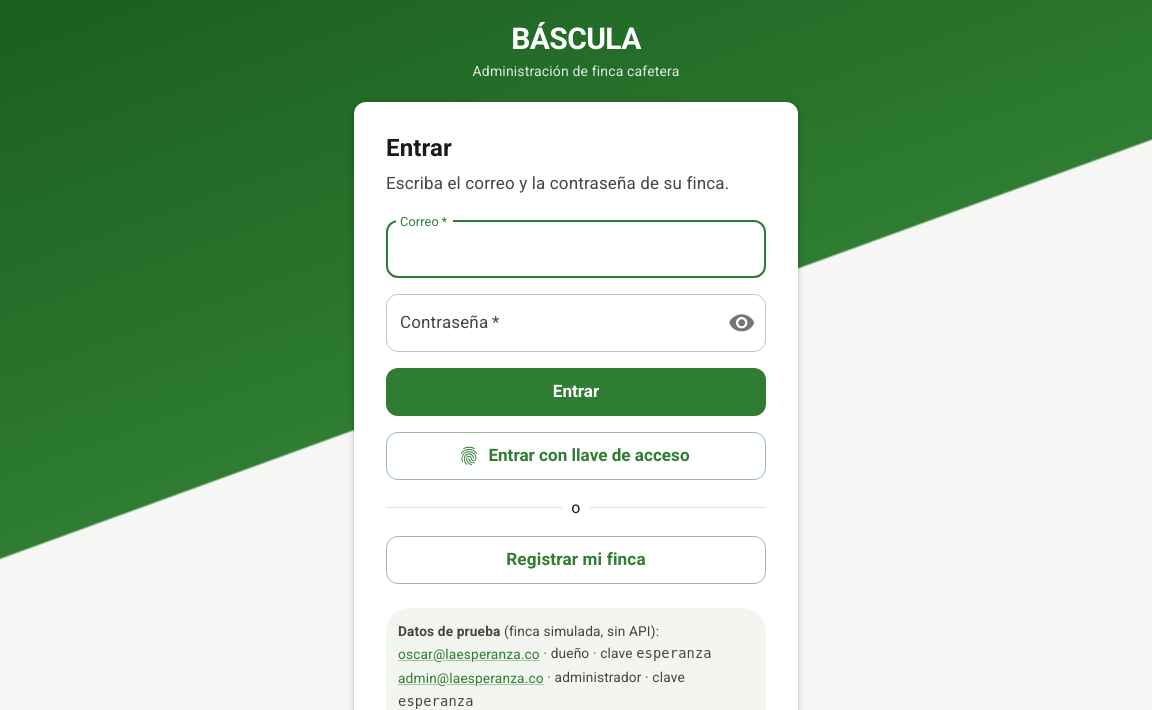
LoginPage — where it goes after a passkey › goes to the page the person was trying to open
This screenshot has width=1152, height=710.
Step 1. Click the button "Entrar con llave de acceso" → (576, 456), box [386,432,766,480]
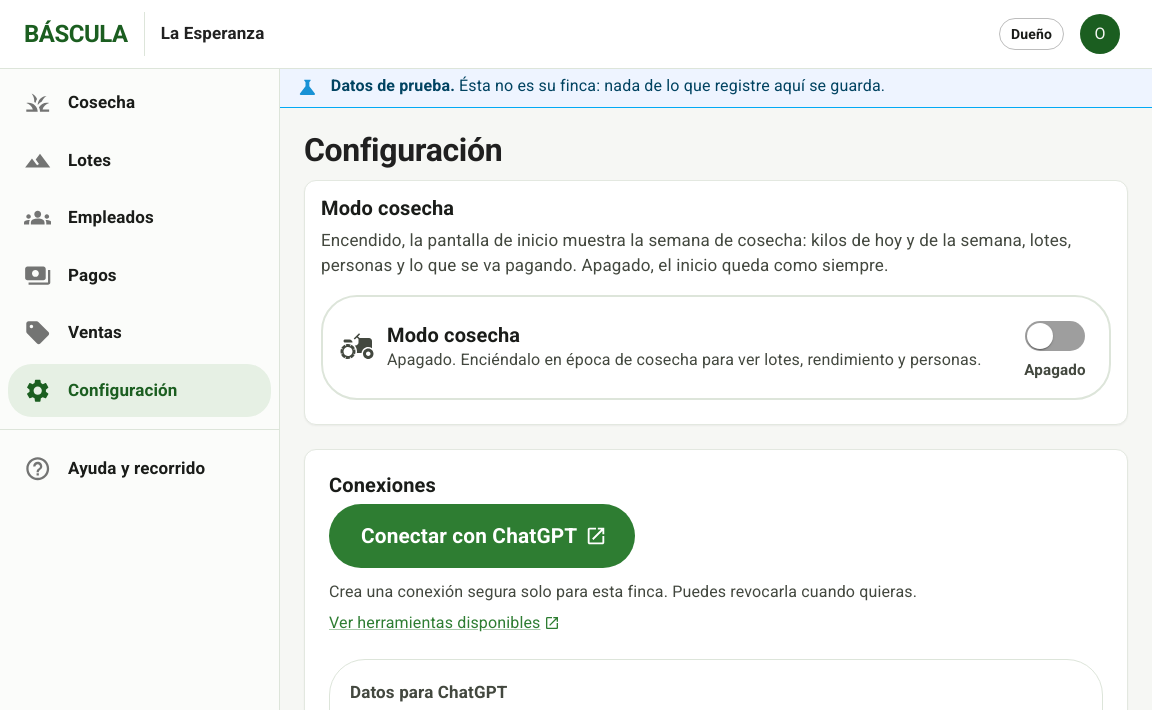
Check: the heading "Configuración" is shown, box [304,131,502,169]
